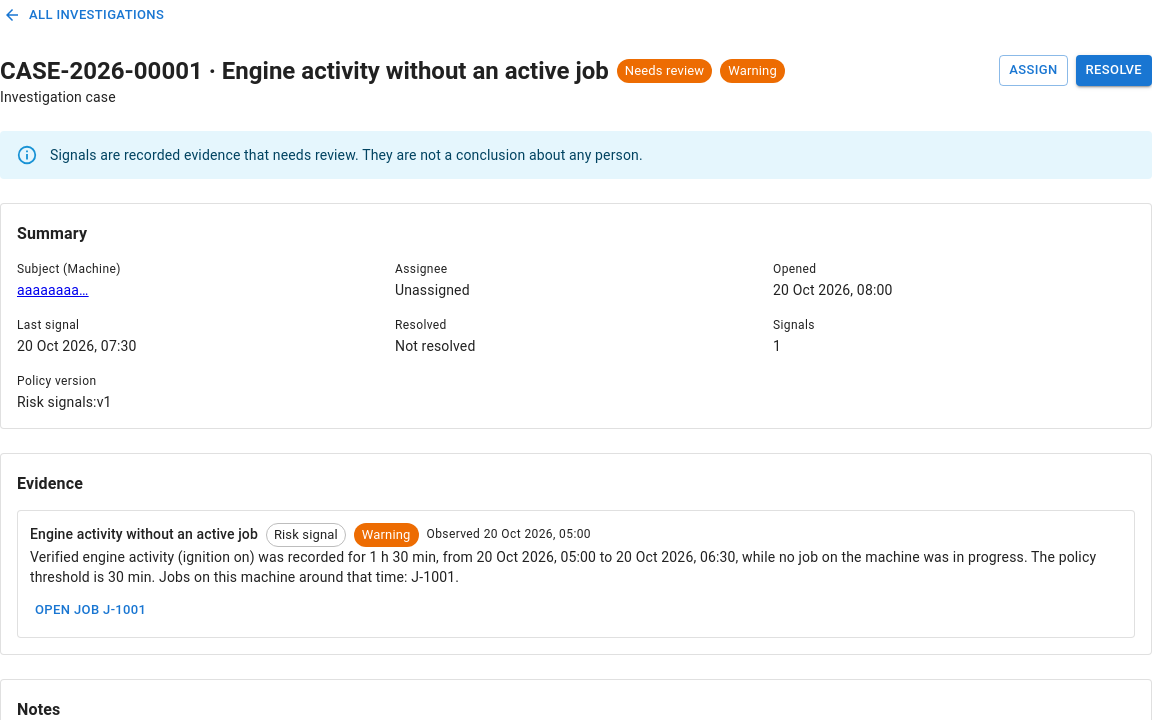
it: CaseDetailPage › resolves with outcome, explanation, version and an idempotency key
This screenshot has width=1152, height=720.
Click the button "Resolve". click: (1114, 70)
box: [1076,55,1151,86]
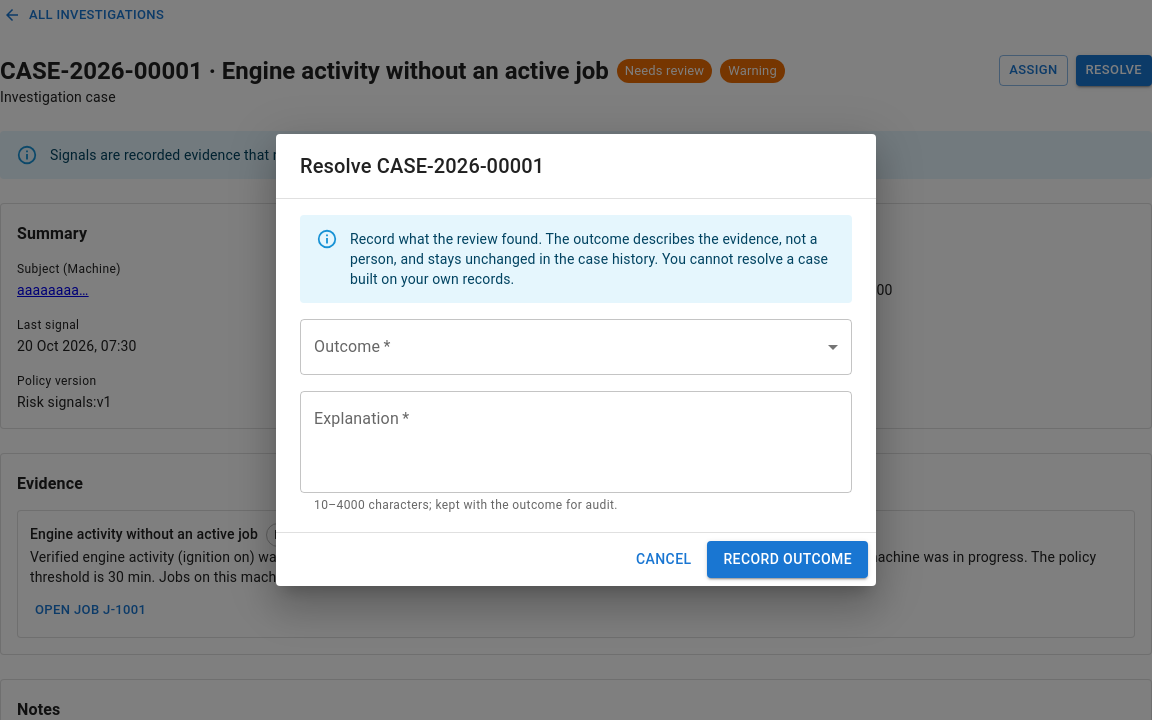
Click the dropdown named "Outcome". click: (576, 347)
box: [300,319,852,375]
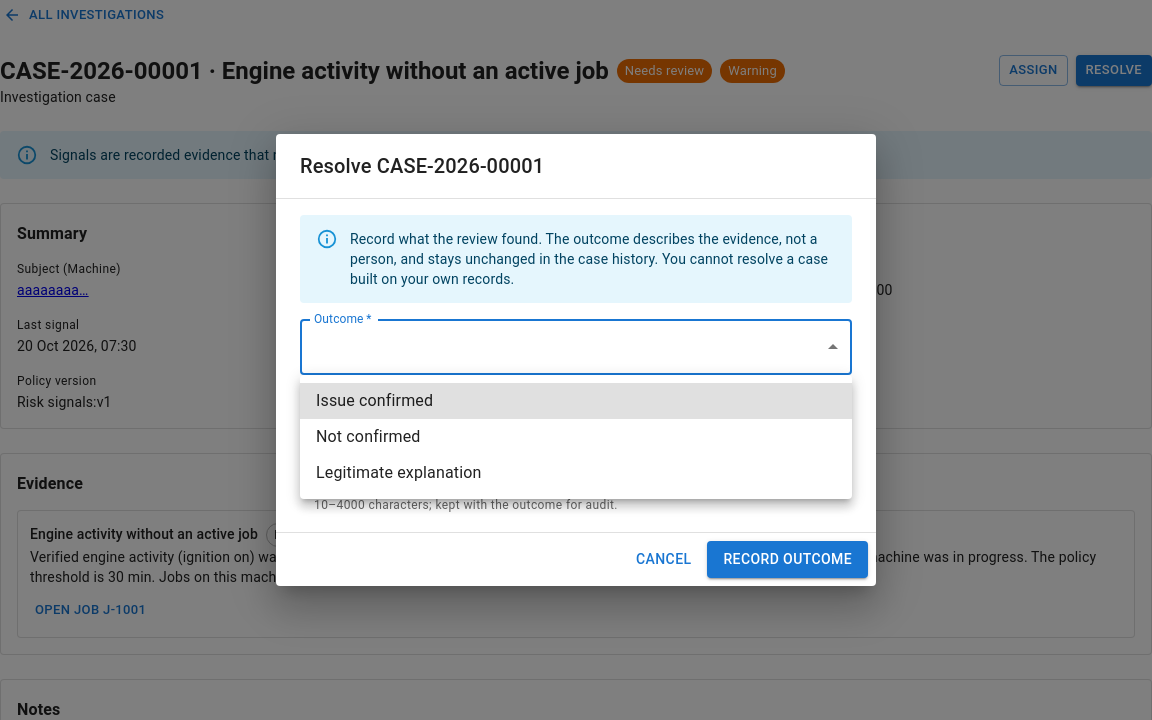
Click the option "Legitimate explanation". click: (399, 472)
box: [316,463,482,482]
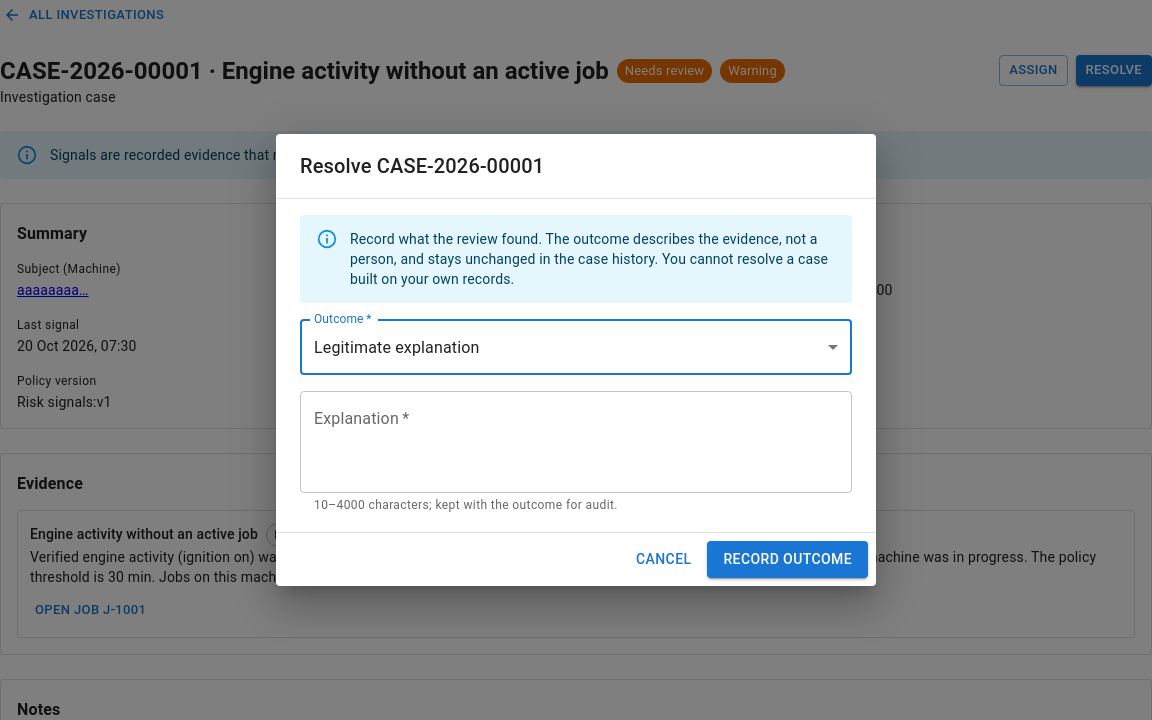
Type "Night shift was approved by phone" into the text box labelled "Explanation *". click: (576, 442)
box: [314,408,838,477]
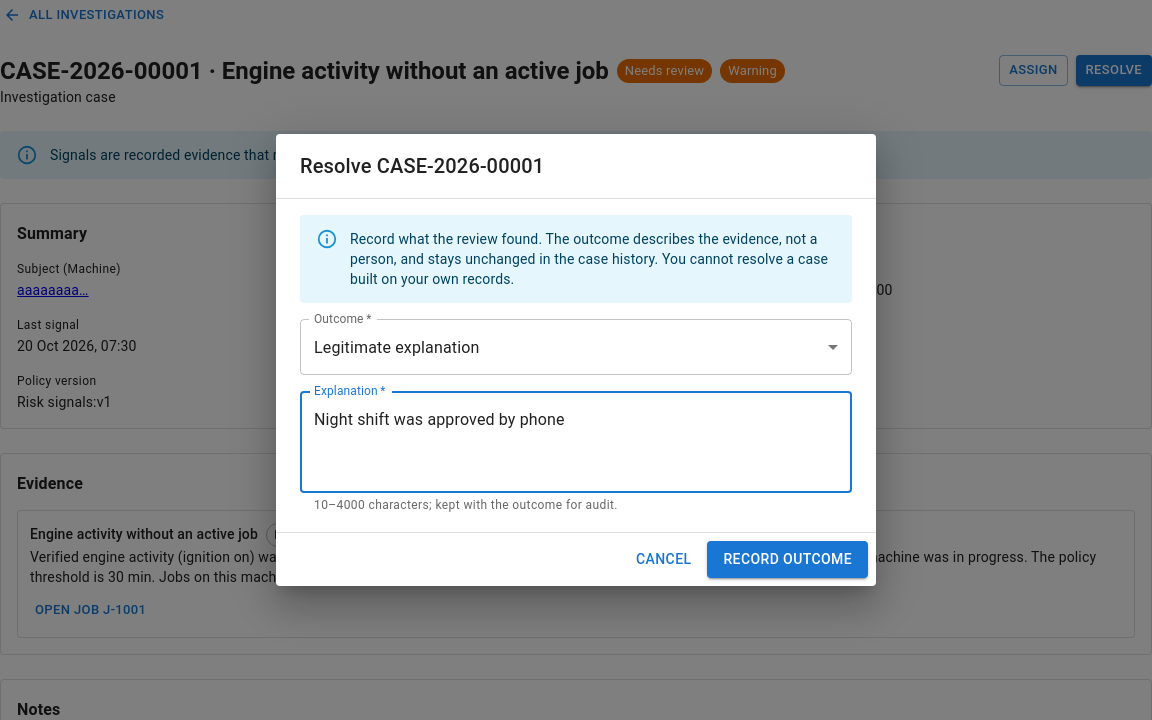
Click the button "Record outcome". click: (788, 559)
box: [708,541,868,578]
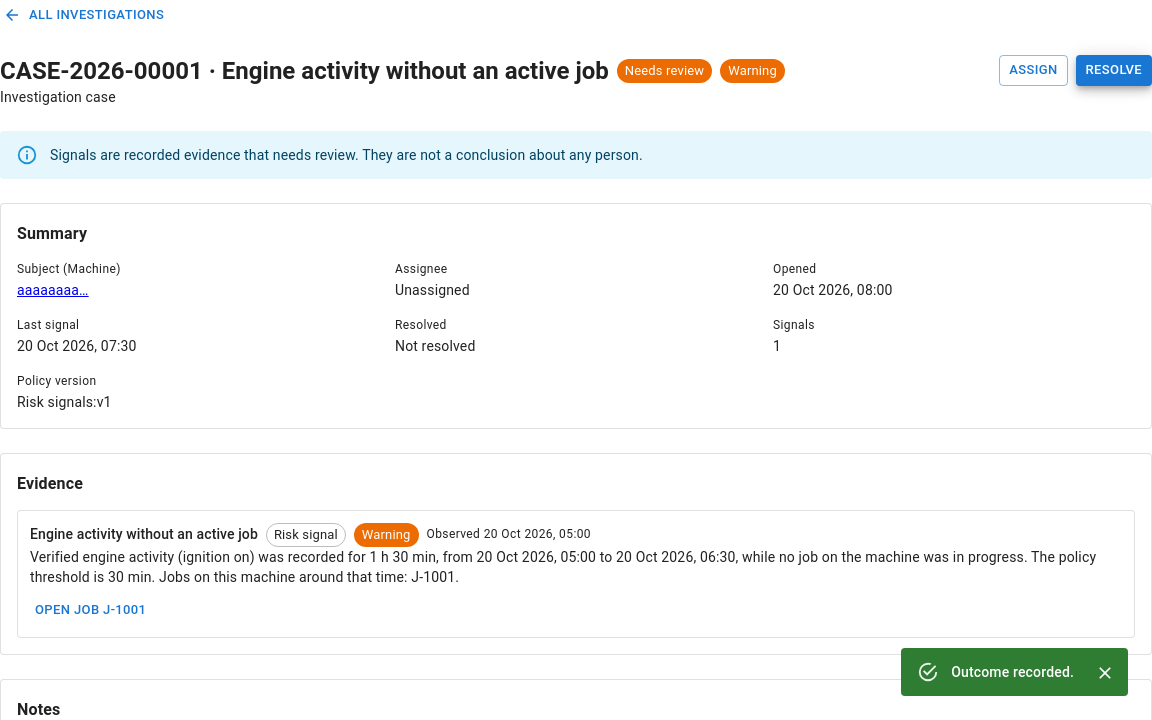
Check: the text "Outcome recorded." is shown, box [951,664,1074,680]
